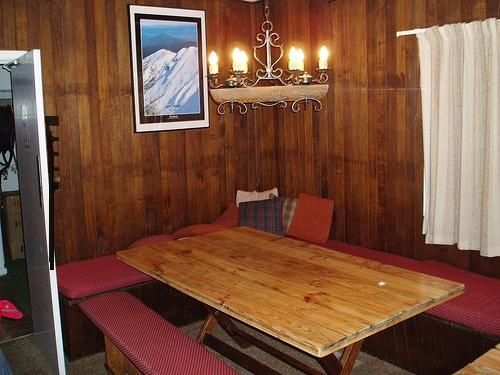tampered: (46, 117, 60, 270)
